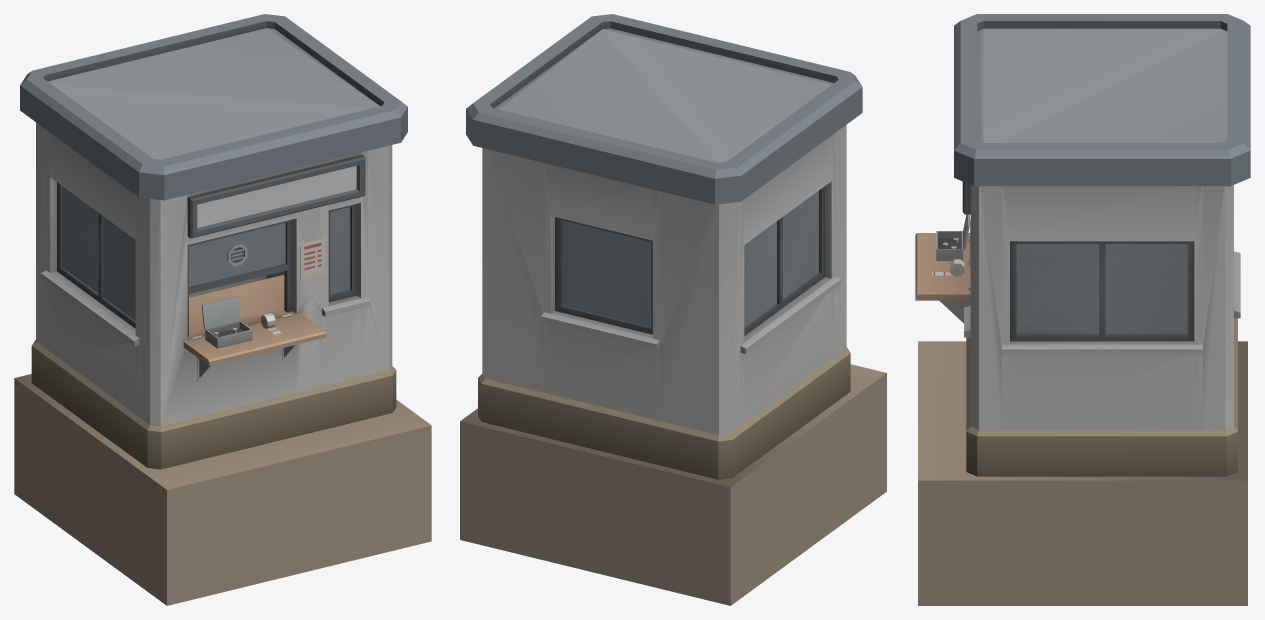
File: booth.glb
3 renders of one model, left to right at view 1: azimuth 30°, elevation 25°; view 2: azimuth 150°, elevation 25°; view 3: azimuth 270°, elevation 25°, orthographic. The views are drawn at different scales.
Visible parts, largest first — view 1: booth.001; view 2: booth.001; view 3: booth.001.
Part boxes in pixels (box(x1,y1,x2,y2)): booth.001: box(14, 14, 431, 605); booth.001: box(460, 14, 886, 605); booth.001: box(915, 14, 1250, 605).
Size of the model in its own units: 2.5 by 3.74 by 2.5.
